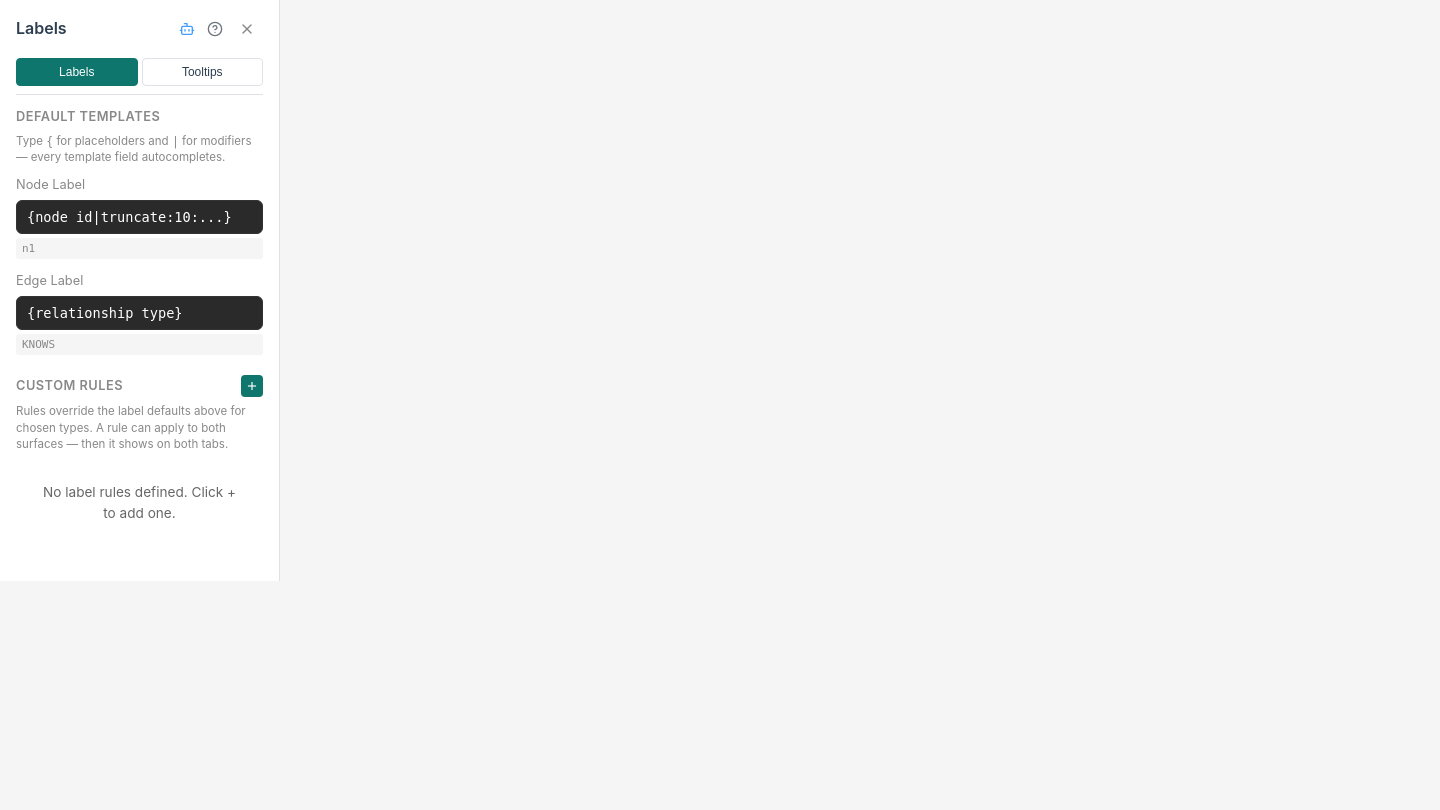
Test: TextFormatPanel — AI skill helper › opens the label skill modal from the robot button
The width and height of the screenshot is (1440, 810).
Click the button with test id "label-skill-help". click: (187, 29)
box: [175, 17, 199, 41]
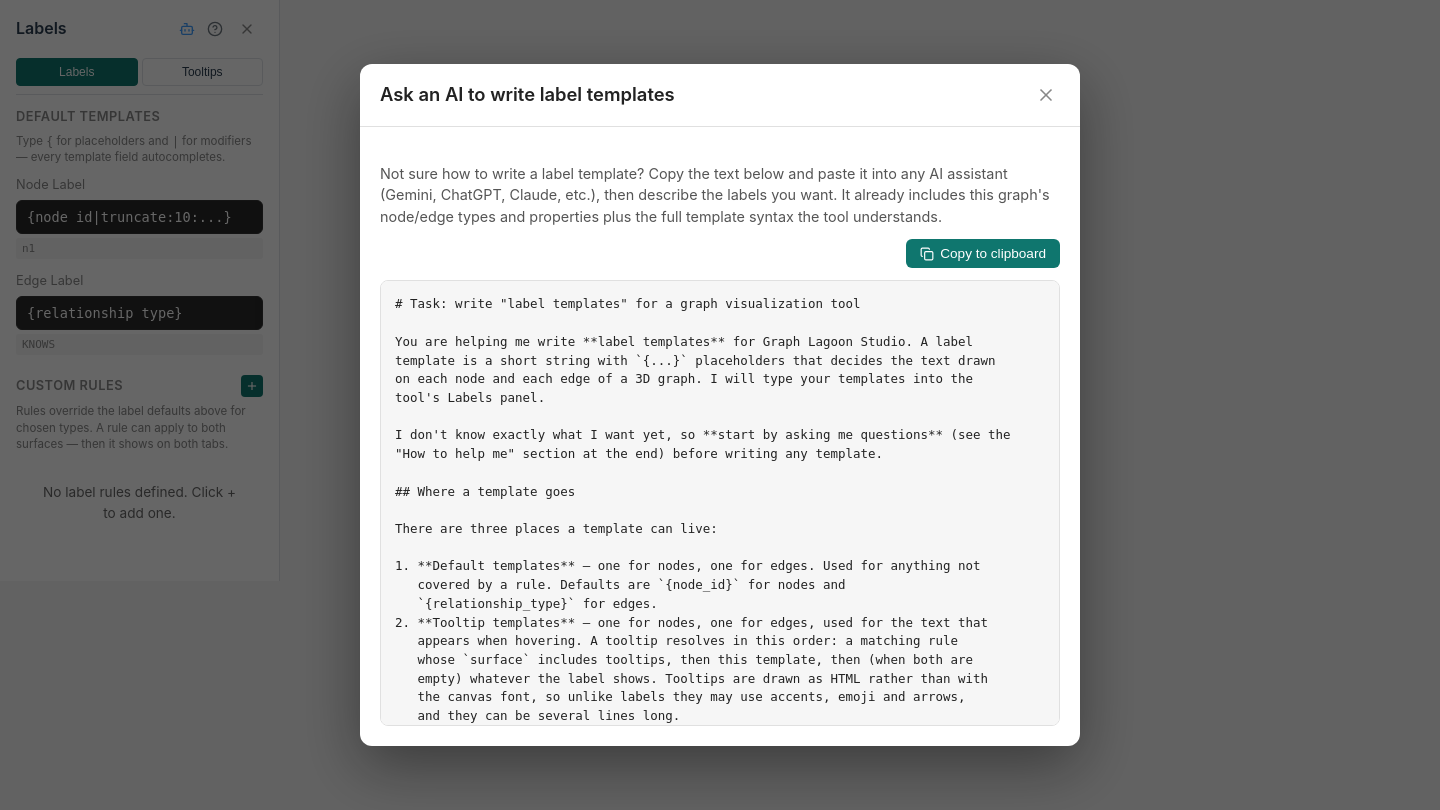
Result: the element with test id "label-skill-modal" is shown at [360, 64, 1080, 746]
